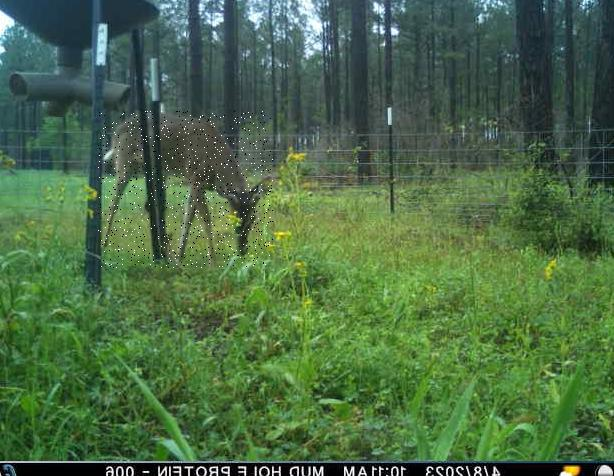Deer: (98, 111, 273, 268)
